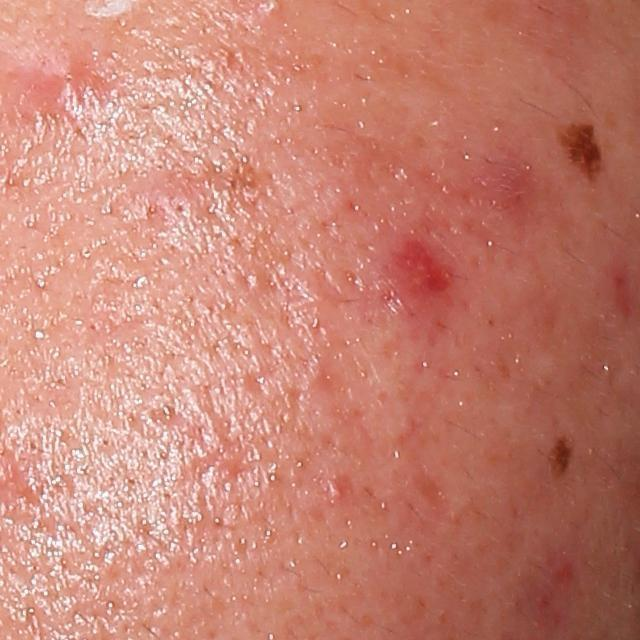nevus: (549, 122, 608, 185), (545, 432, 577, 479)
papule: (372, 238, 456, 318), (112, 164, 199, 223), (27, 54, 93, 112), (487, 158, 531, 211)
